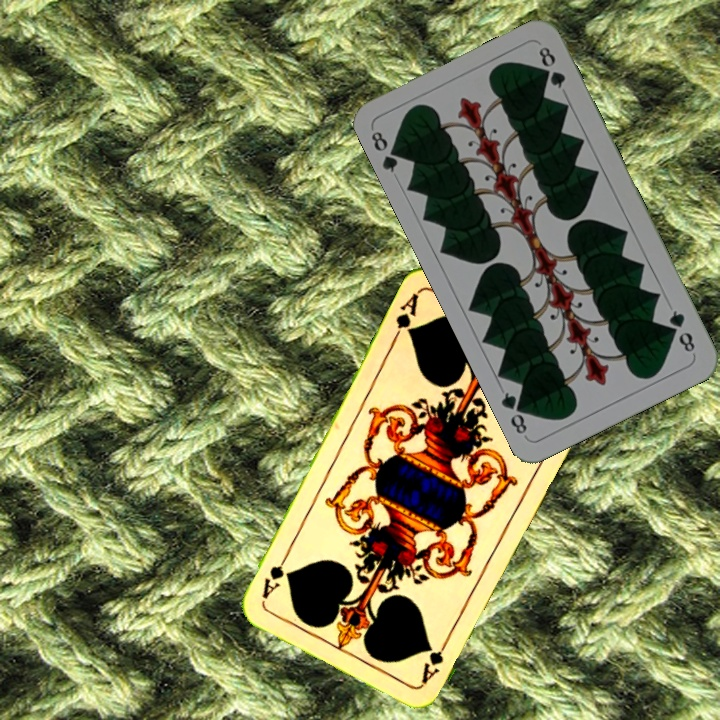G8: (367, 127, 407, 176), (665, 306, 698, 357)
GA: (417, 631, 453, 686), (388, 288, 422, 344)
